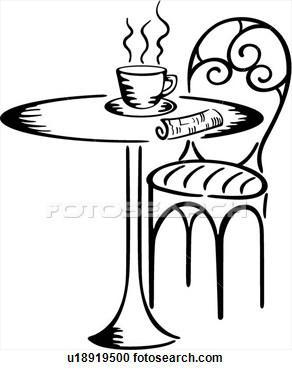chair: (146, 19, 292, 320)
diningtable: (1, 95, 267, 354)
